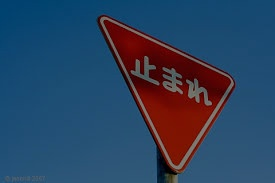Regulatory_sign_triangle: (96, 12, 238, 182)
